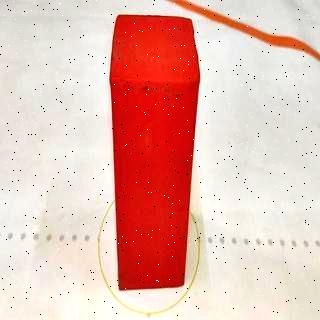redbox: (108, 12, 201, 291)
